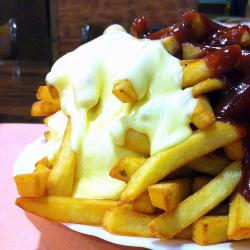fries: (38, 24, 243, 233)
ketchup: (169, 16, 246, 105)
